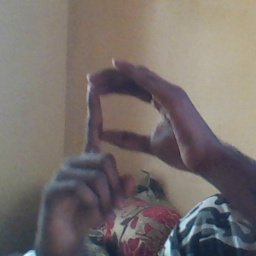P: (48, 55, 194, 226)
